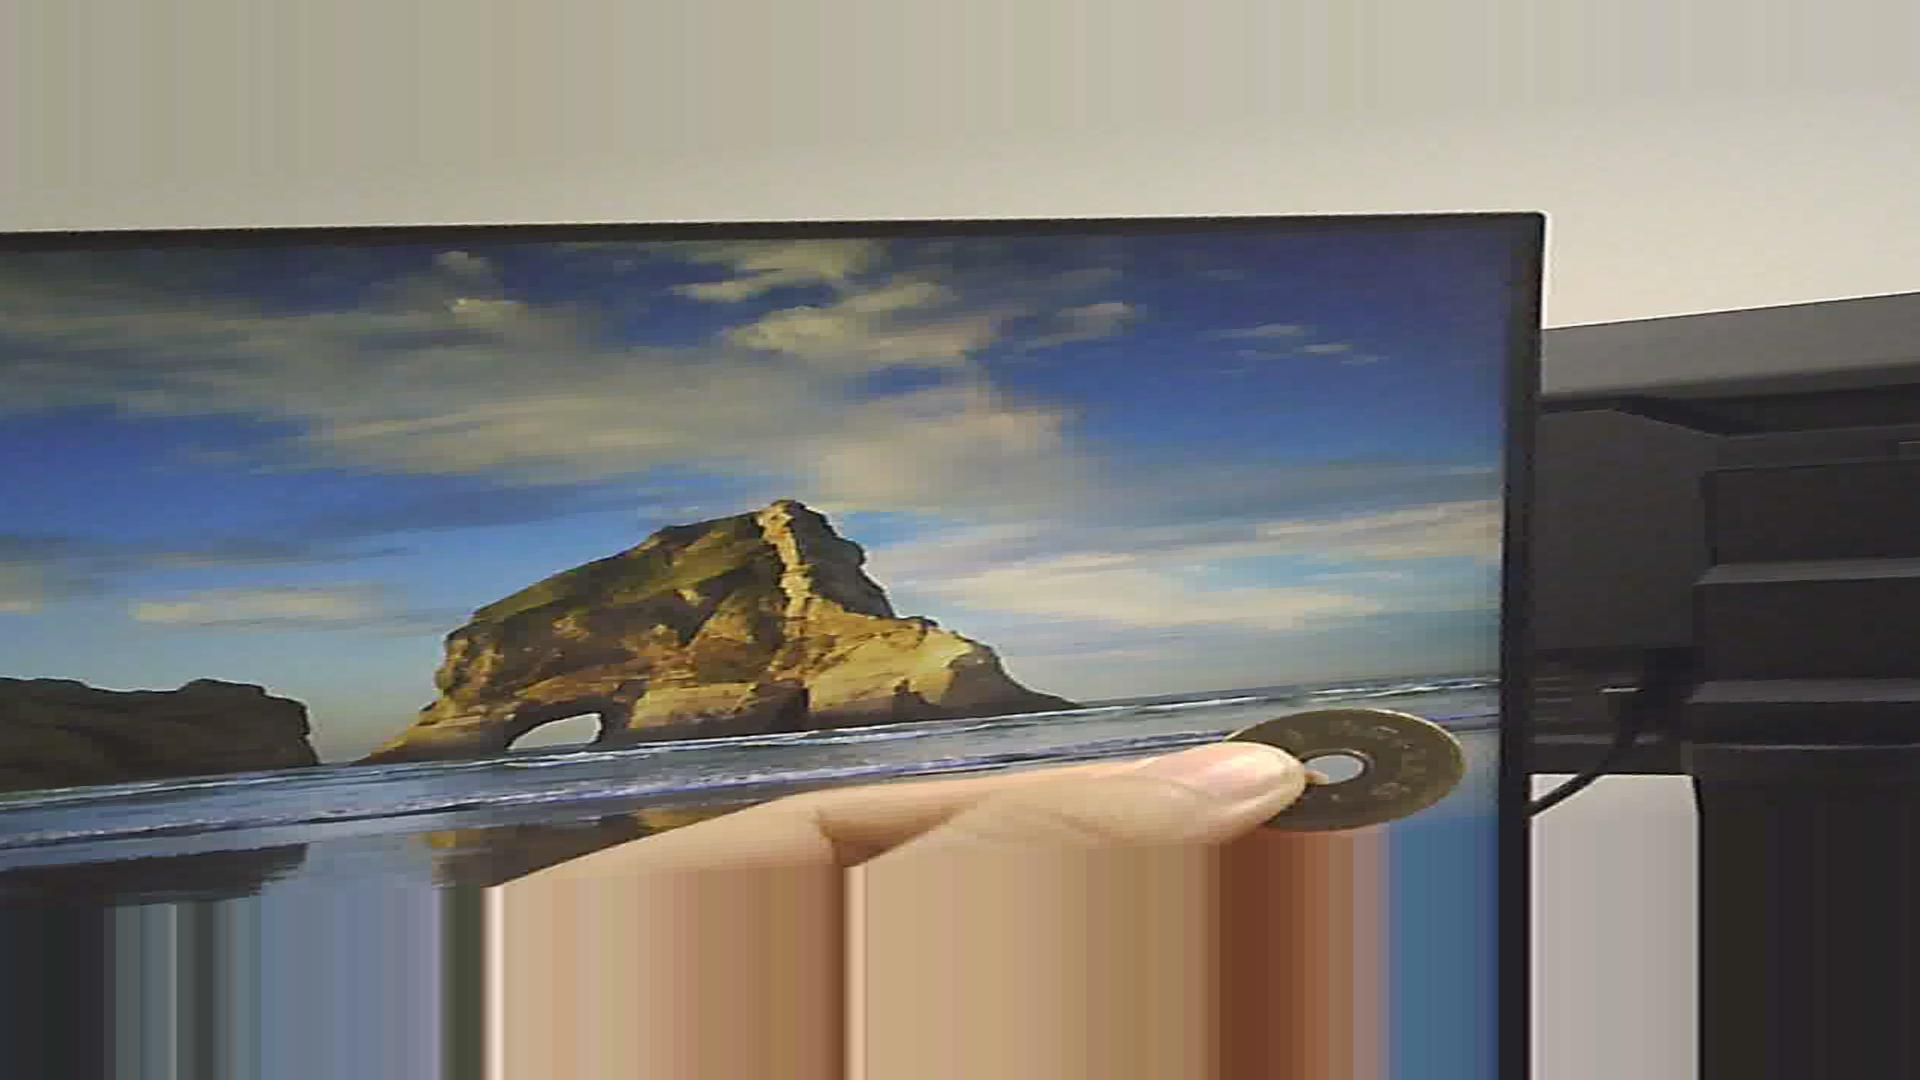5 Yen: (1217, 696, 1470, 822)
